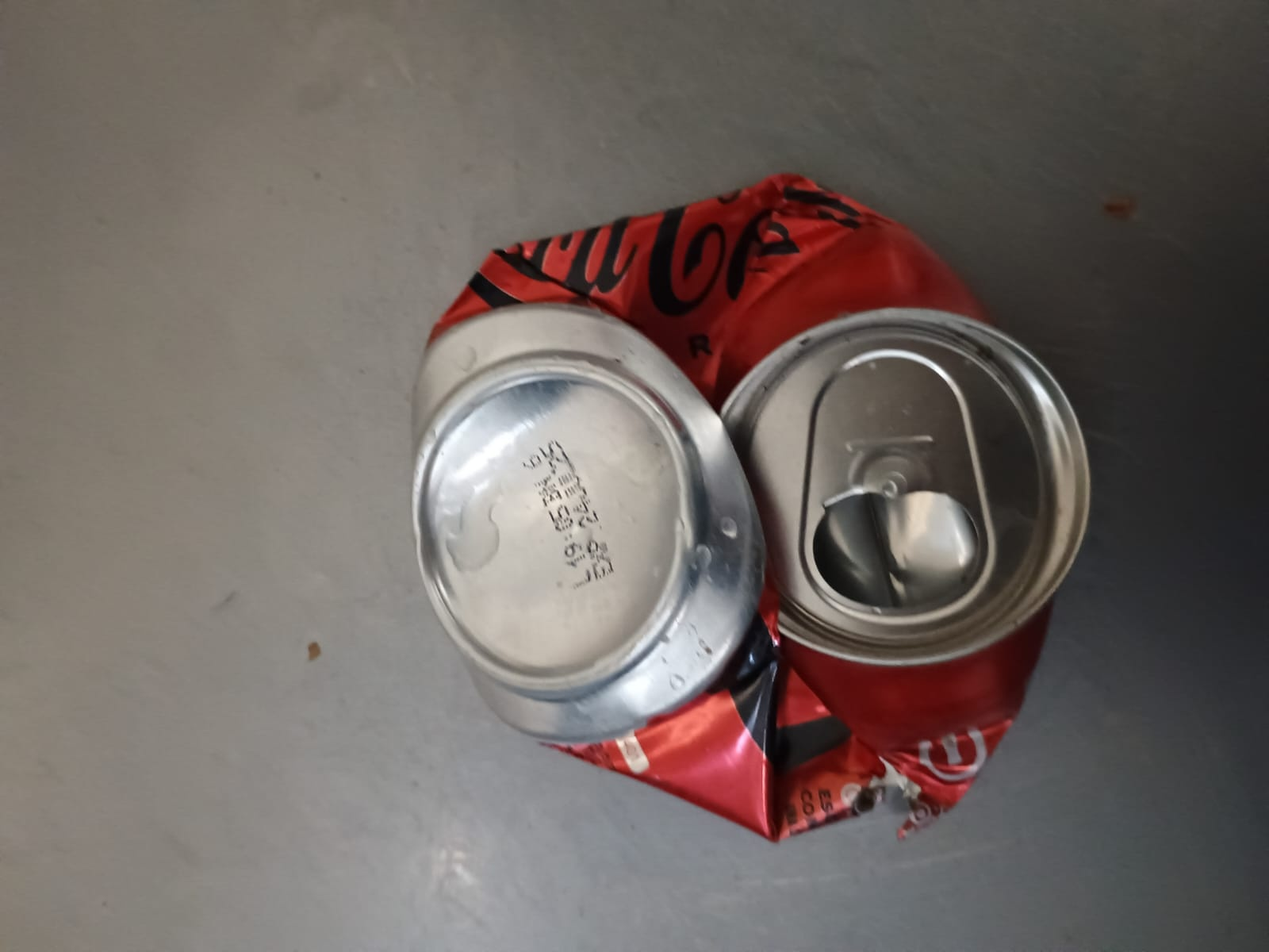Metal: (402, 173, 1088, 844)
